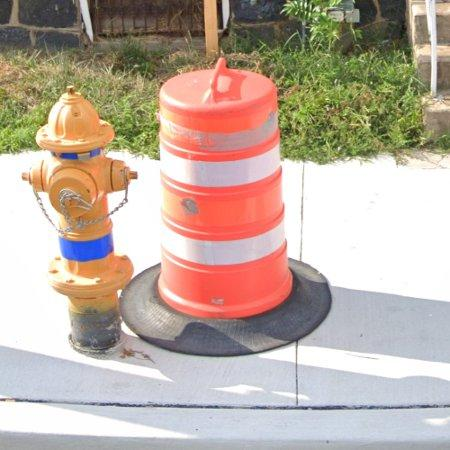a fire hydrant: (22, 86, 137, 352)
